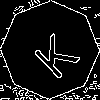K: (25, 25, 81, 82)
